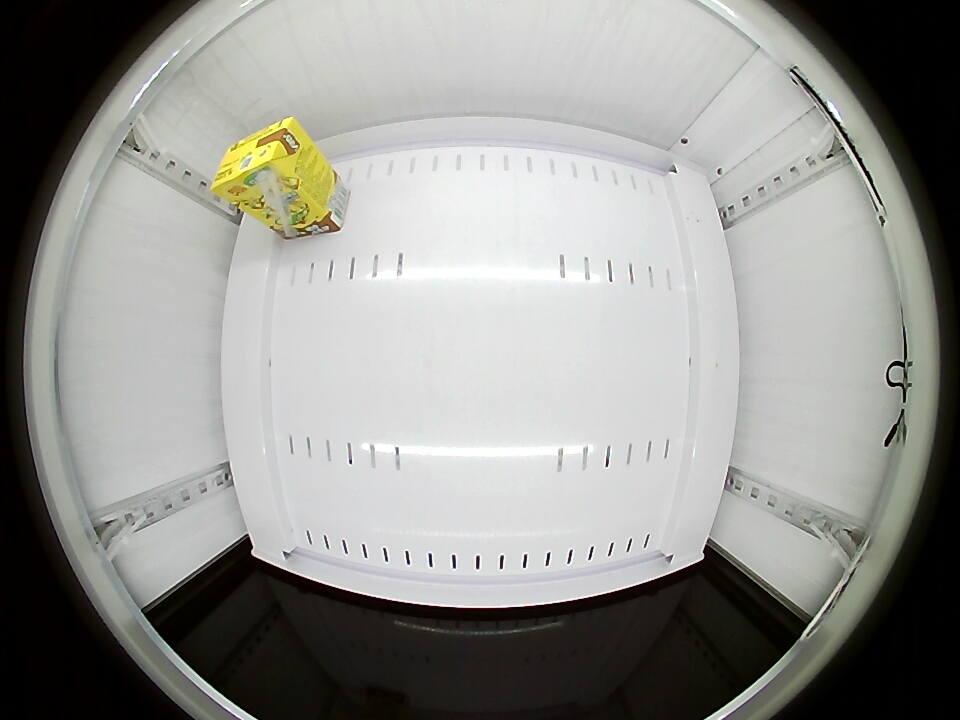weitaningmeng: (211, 116, 311, 206)
